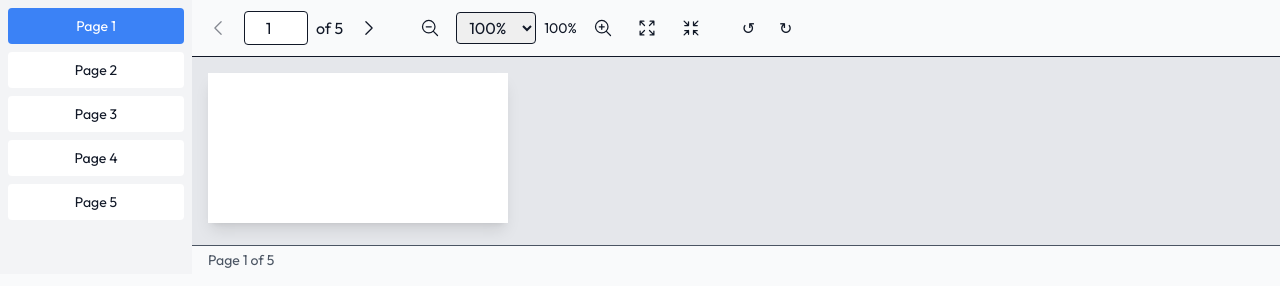
Scenario: PDFViewer › Navigation › should navigate via thumbnails
Click the button with aria-label "go to page 3": (96,114) x1=8 y1=96 x2=184 y2=132
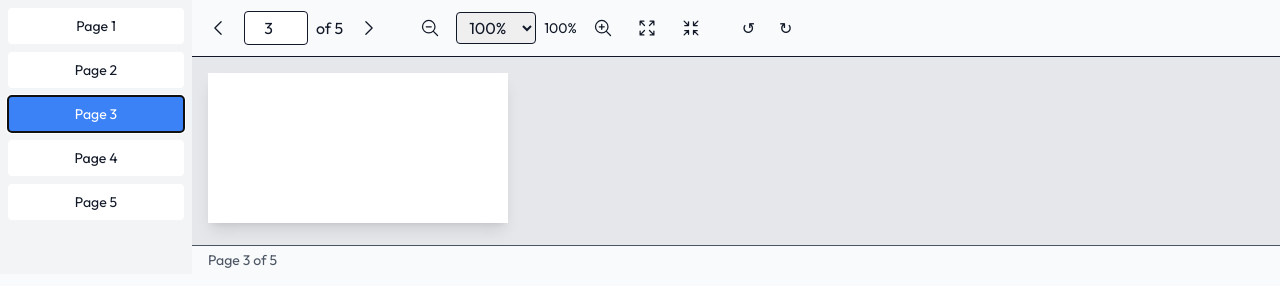
Expected: the text "Page 3 of 5" is shown, x1=208 y1=251 x2=277 y2=269
